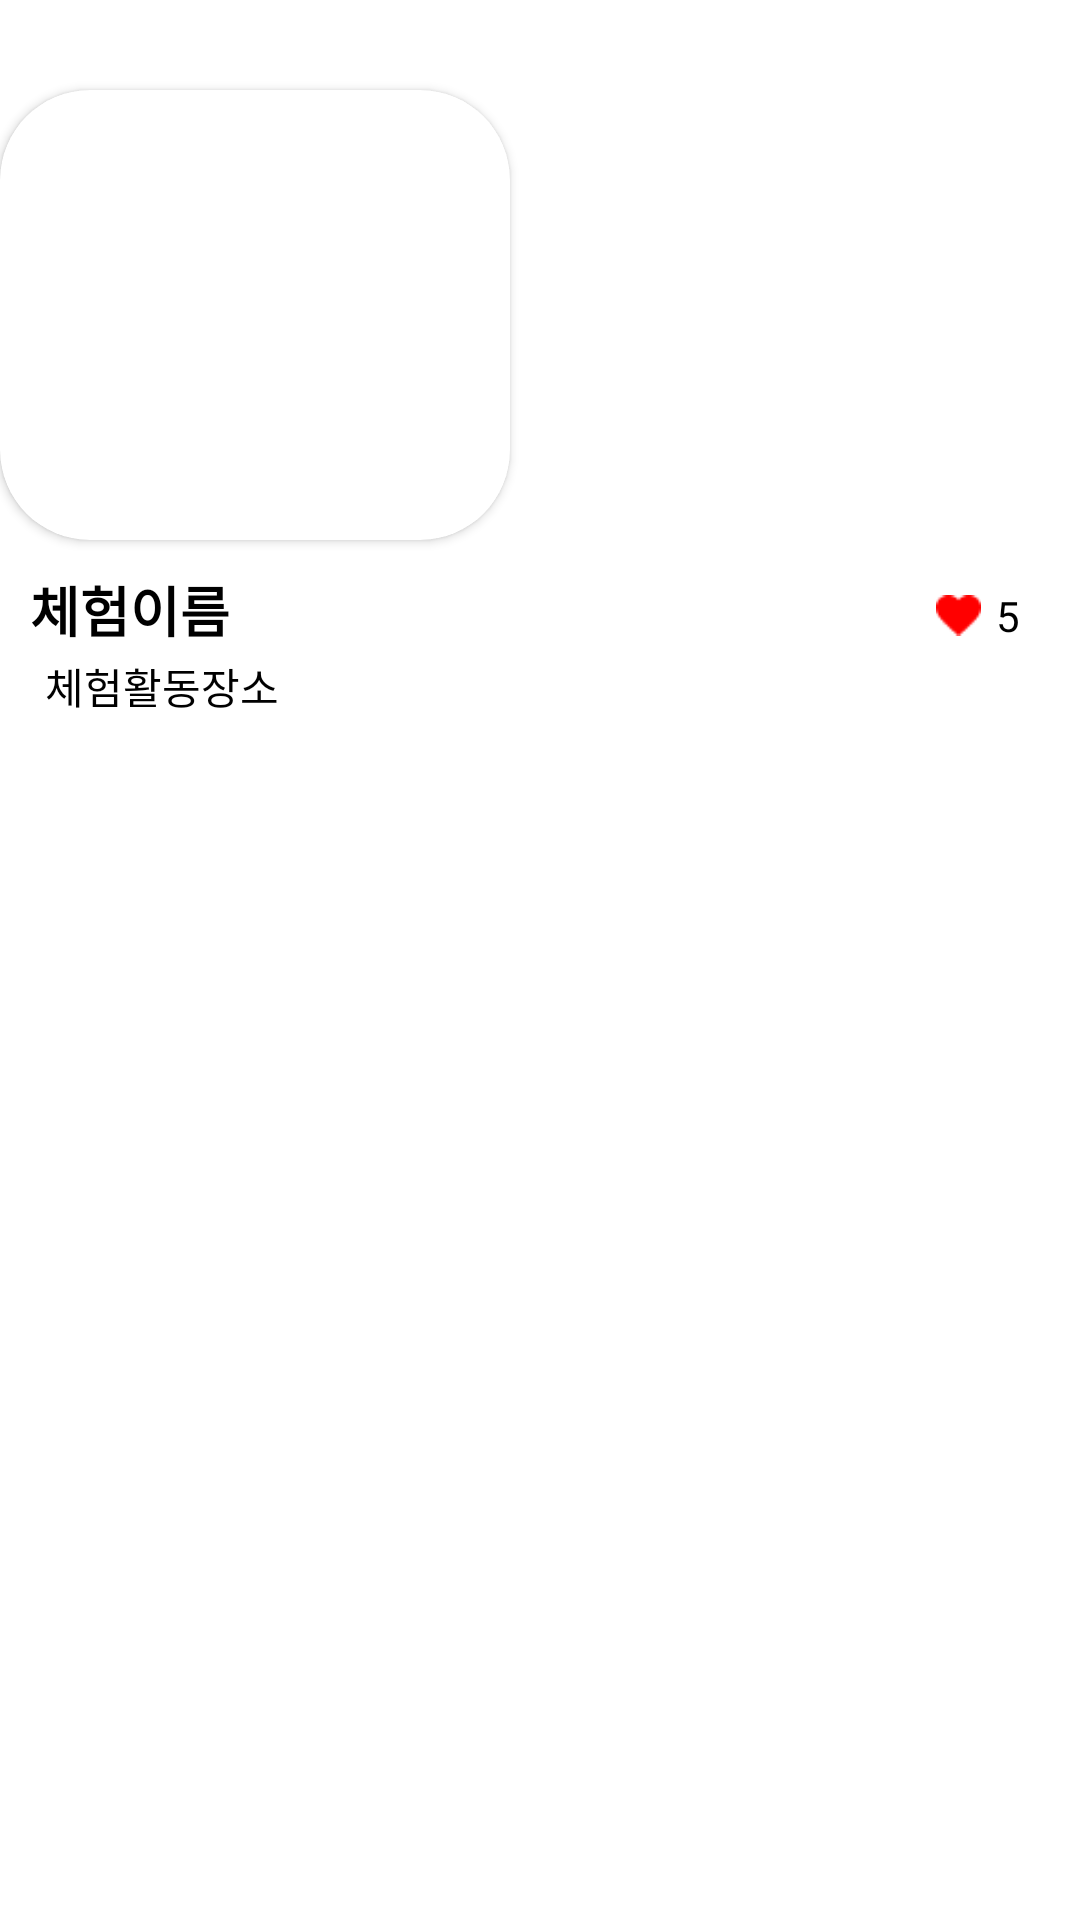

Point at icon controls on the screen. Image size 1080*1920, points as [x,y].
lovered: [958,615]
